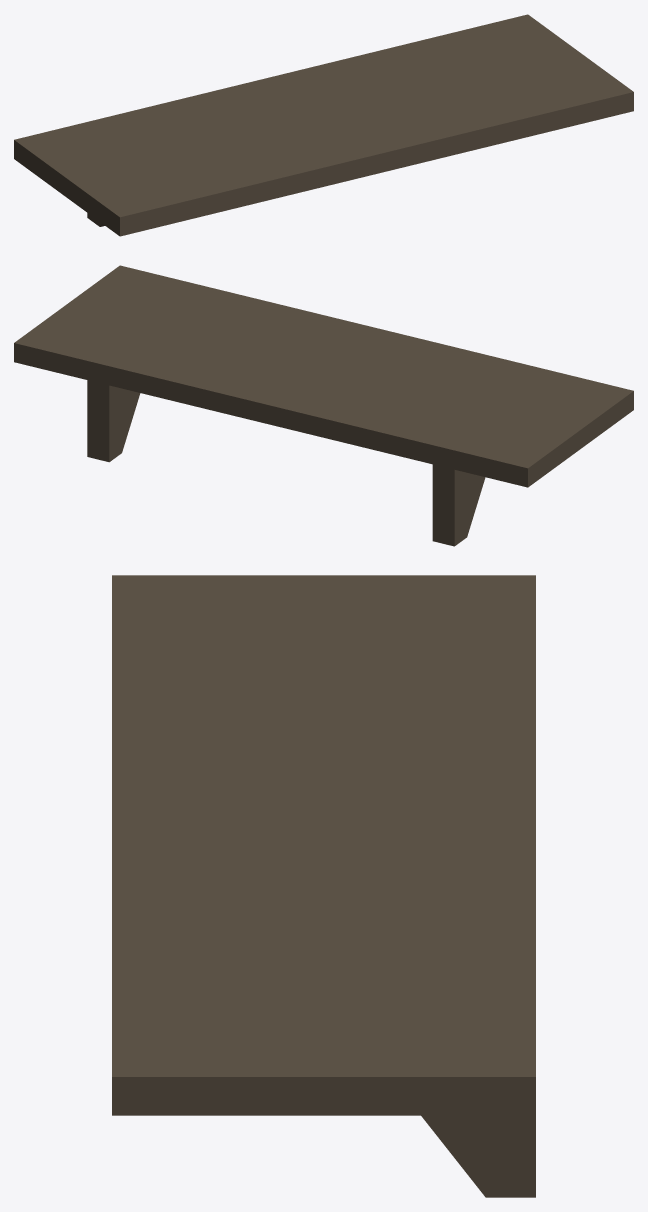
Rendered from SM_Props_Interior_House_Room_Shelf_01.fbx.
3 renders of one model, top to bottom at view 1: azimuth 30°, elevation 25°; view 2: azimuth 150°, elevation 25°; view 3: azimuth 270°, elevation 25°, orthographic. The views are drawn at different scales.
Visible parts, largest first — view 1: SM_Props_Interior_House_Room_Shelf_01; view 2: SM_Props_Interior_House_Room_Shelf_01; view 3: SM_Props_Interior_House_Room_Shelf_01.
Part boxes in pixels (<box>): SM_Props_Interior_House_Room_Shelf_01: <box>14,14,633,236</box>; SM_Props_Interior_House_Room_Shelf_01: <box>14,265,633,546</box>; SM_Props_Interior_House_Room_Shelf_01: <box>112,575,535,1197</box>.
Size of the model in its own units: 70 by 12.5 by 25.
